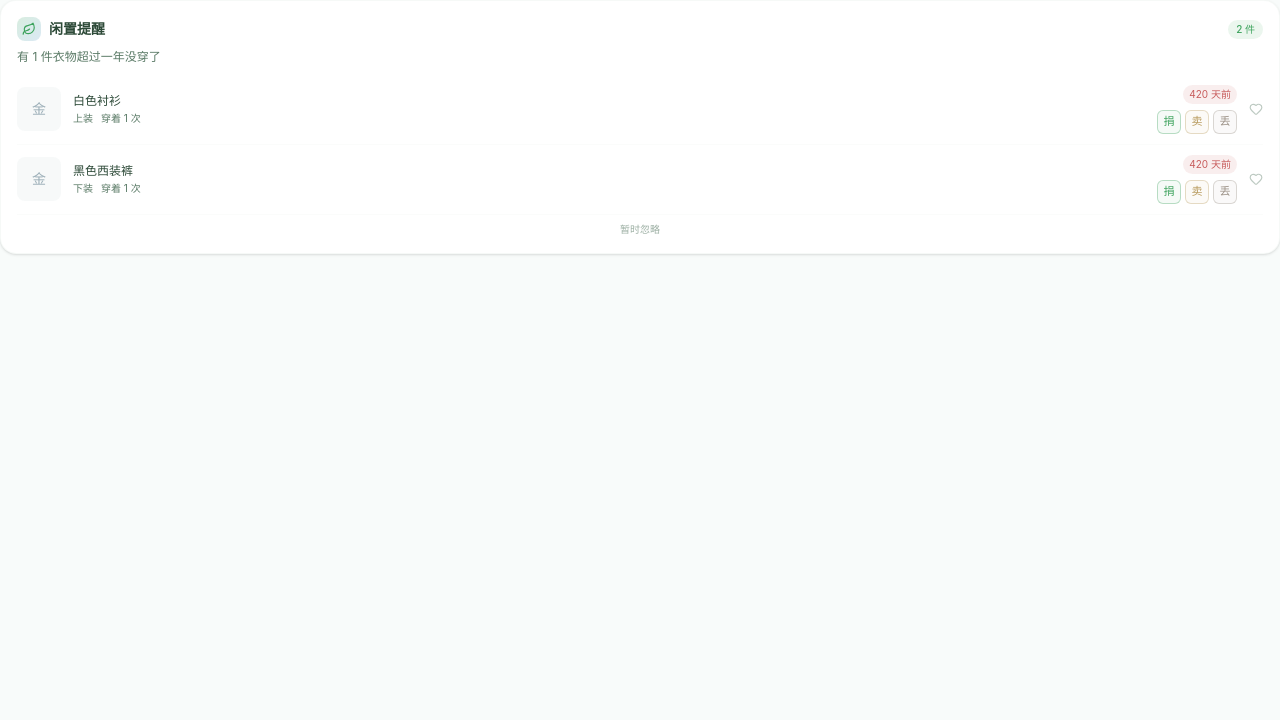
Scenario: IdleItemsCard › 确认后写入三态、行消失并广播活跃衣橱变更
expect the text "白色衬衫" is shown: met, box [73, 92, 121, 108]
Click the button named "让它找新主人：白色衬衫" at (1169,122), box [1157, 110, 1181, 134]
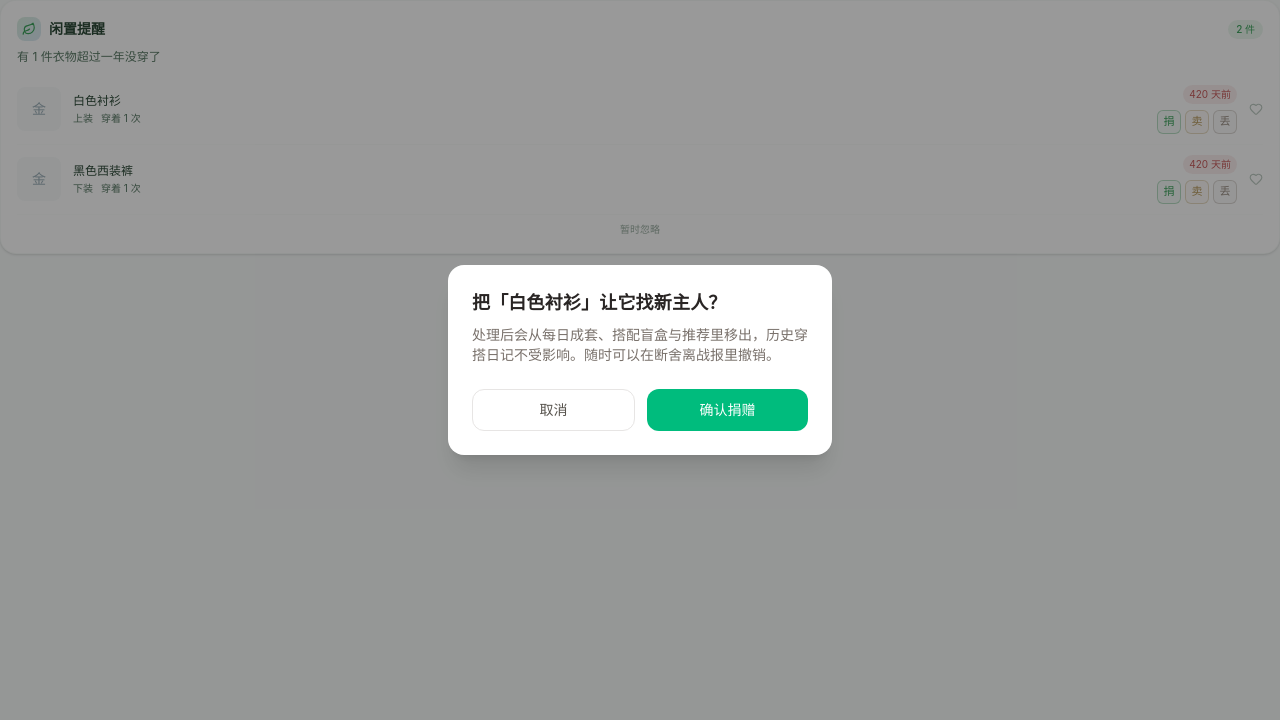
expect the button "确认捐赠" is shown: met
Click the button "确认捐赠" at (728,410), box [647, 389, 808, 431]
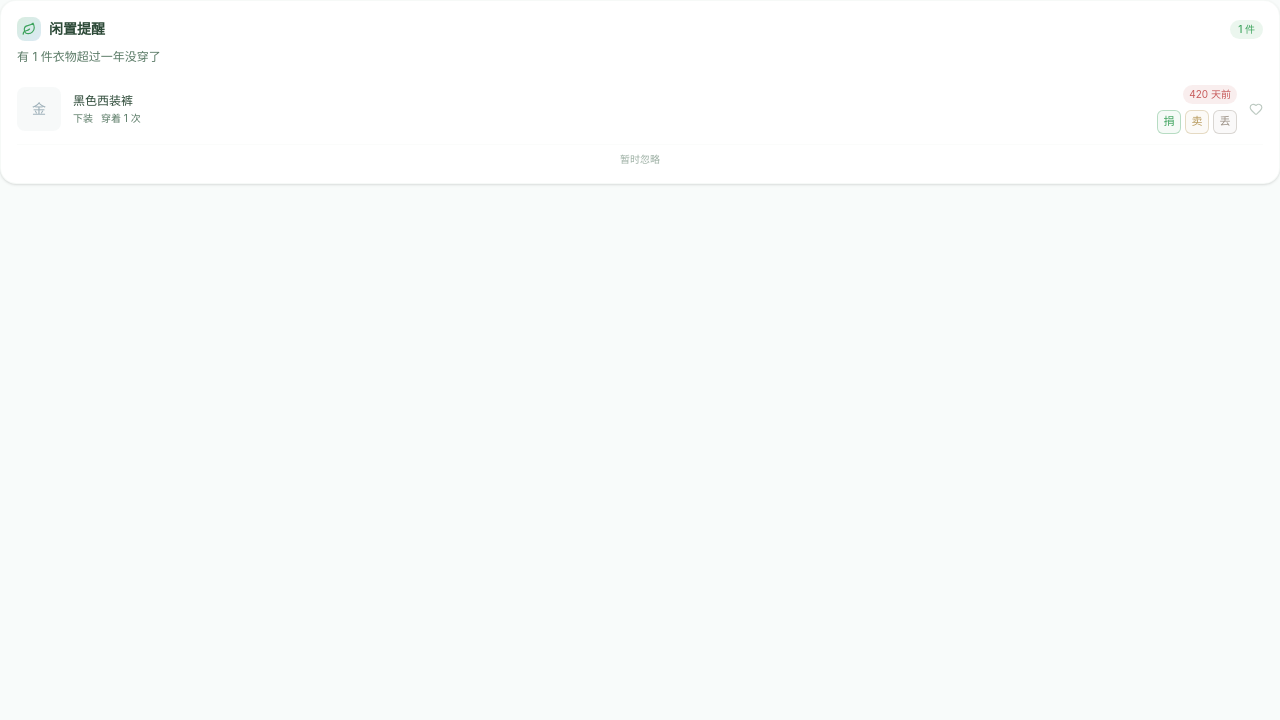
expect the text "黑色西装裤" is shown: met, box [73, 92, 133, 108]
expect the text "白色衬衫" is gone: met
expect the text "1 件" is shown: met, box [1230, 20, 1263, 38]
